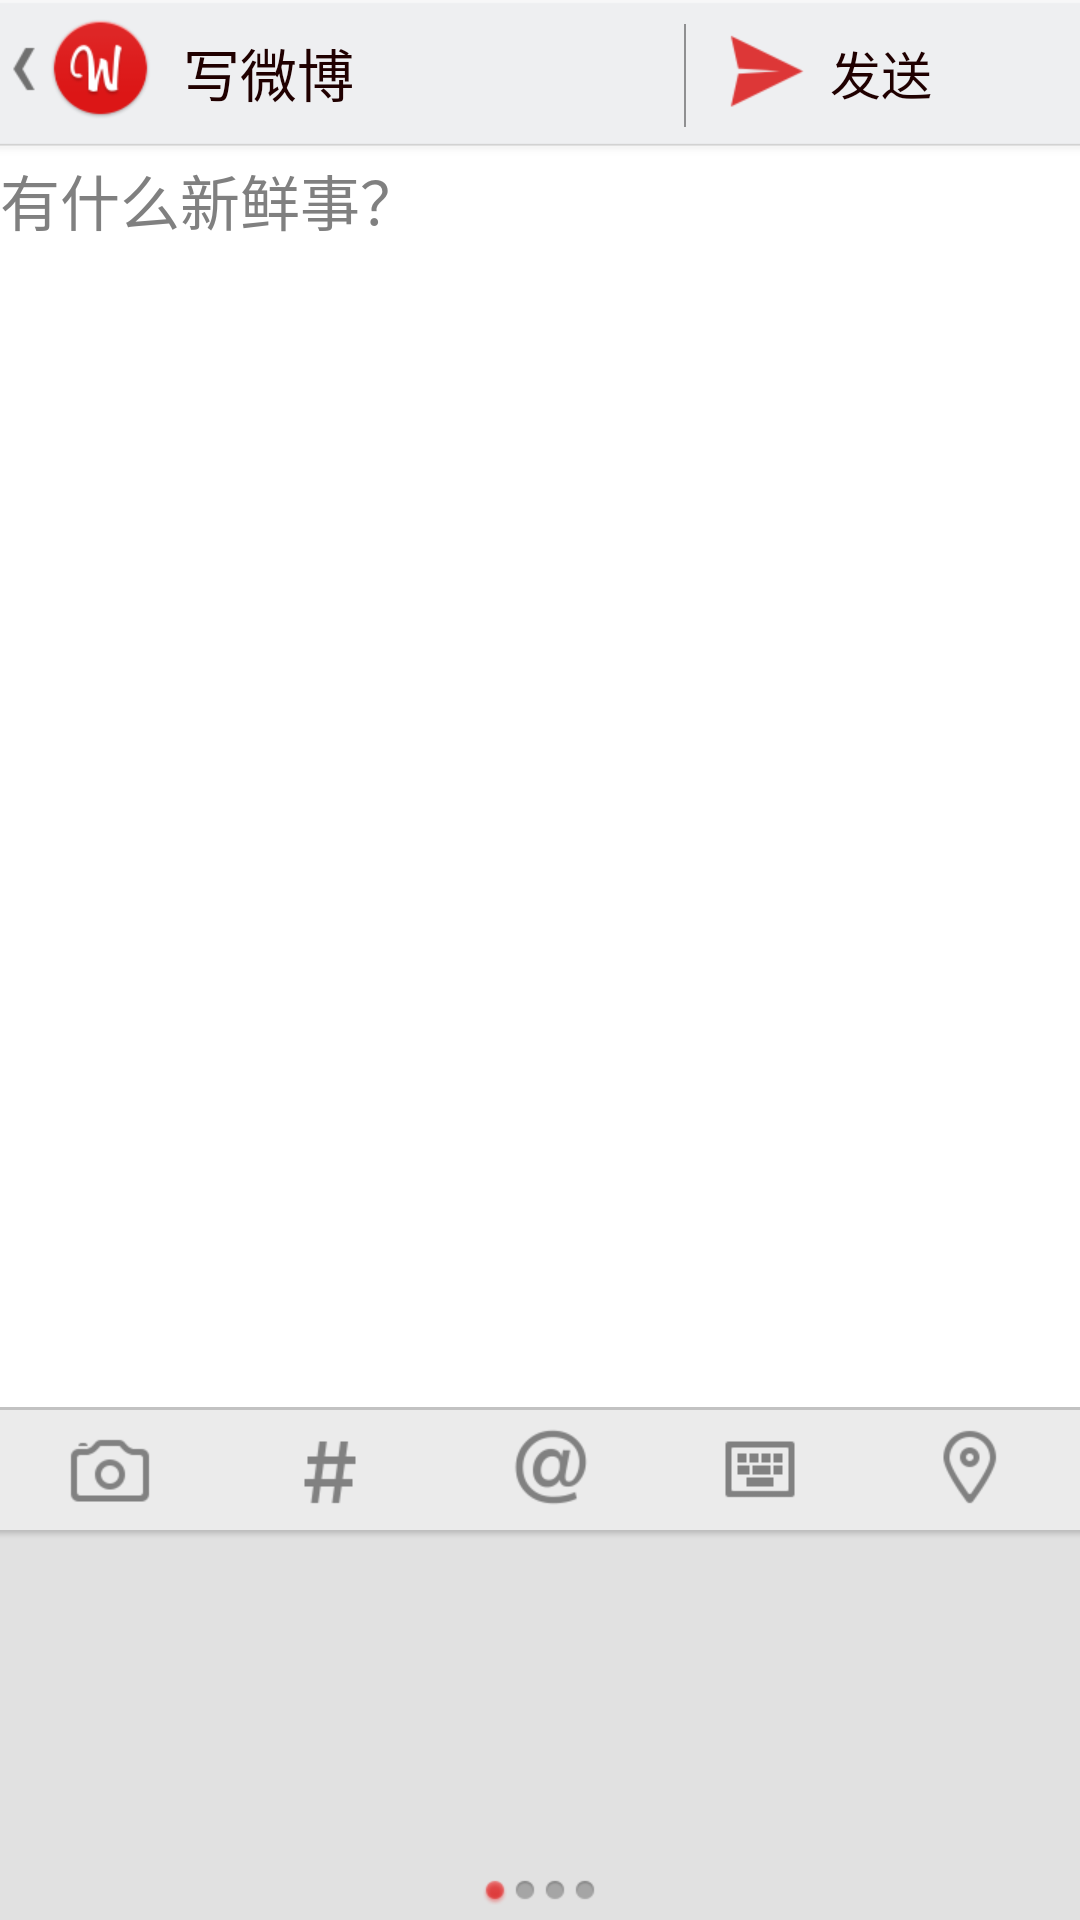

Where to tap for icons on this 1080x1920 app screen, as [x,y]:
activity back: [24,69]
weibo detail keyboard: [760,1469]
